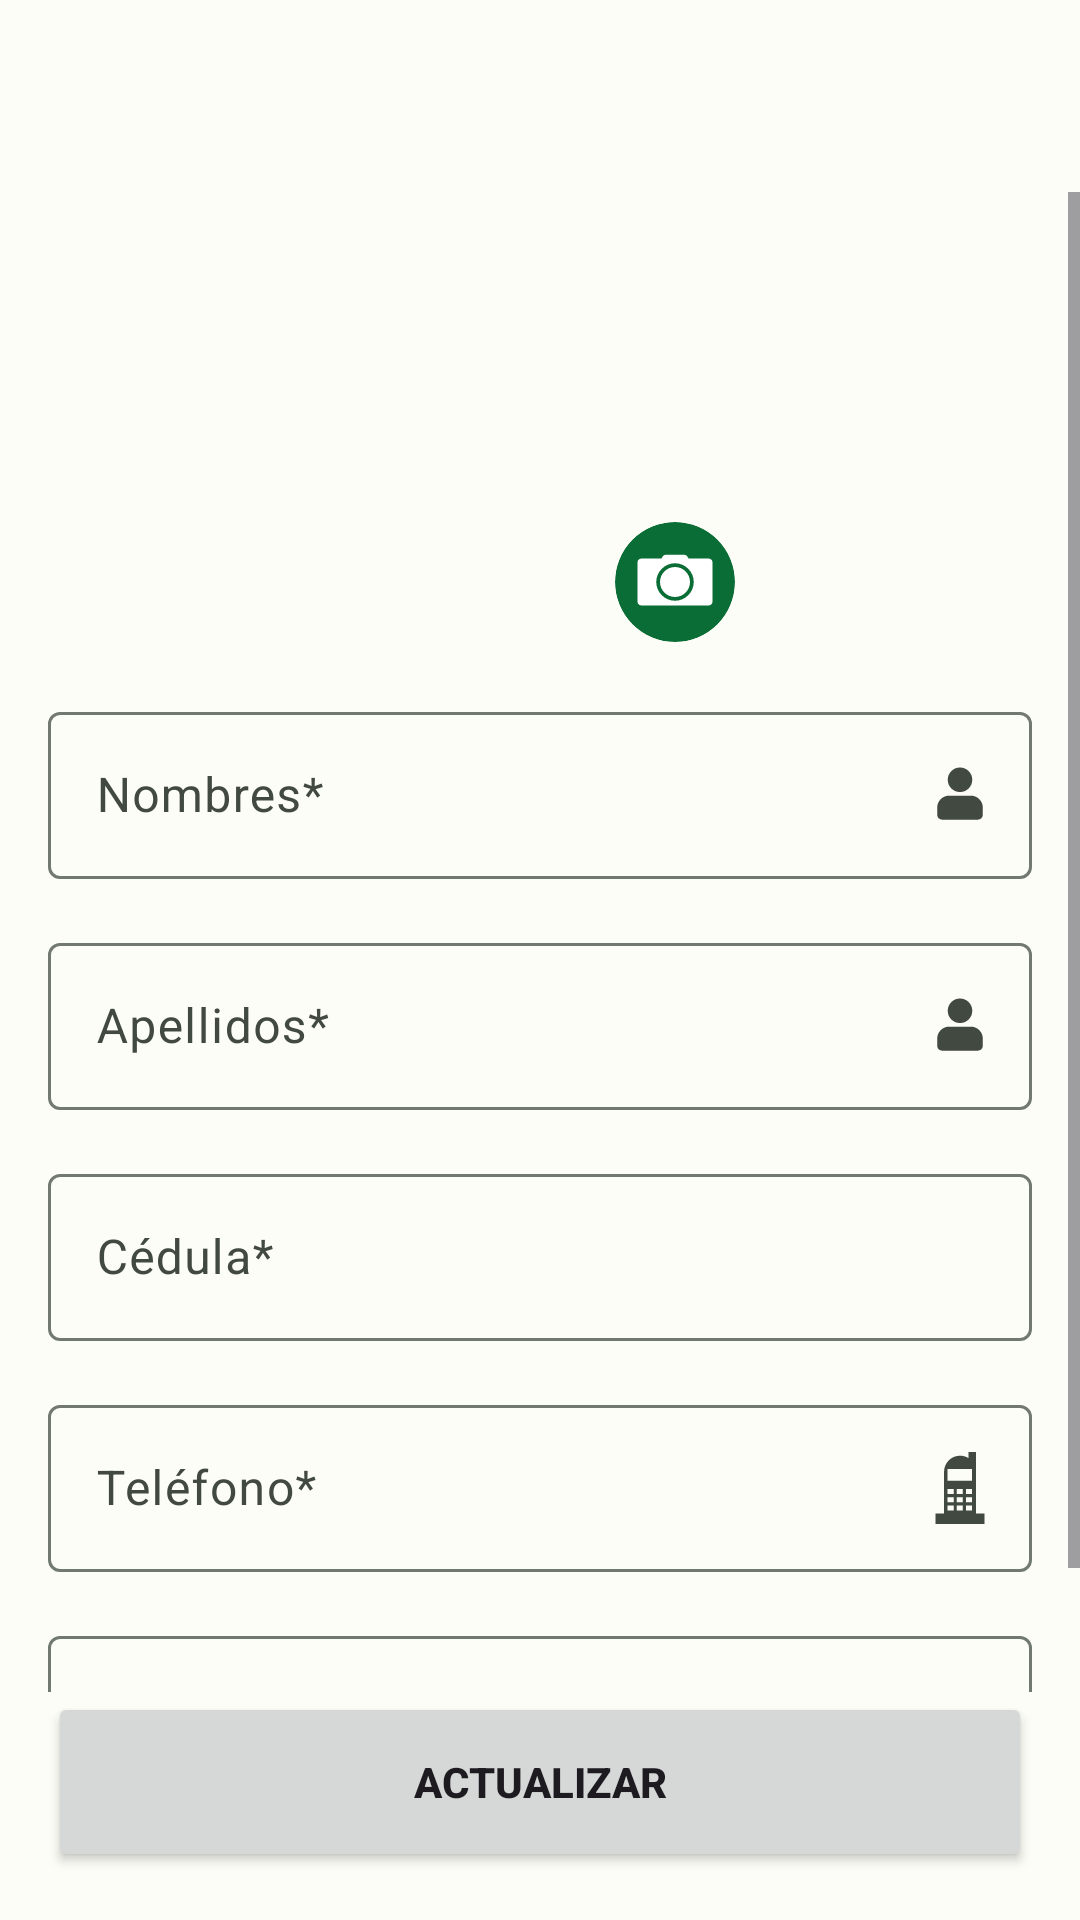

Icon bounding boxes for this 1080w x 1920h phone screenshot, format box=[x1, y1, x2, y2]:
camera: box=[615, 522, 735, 642]
